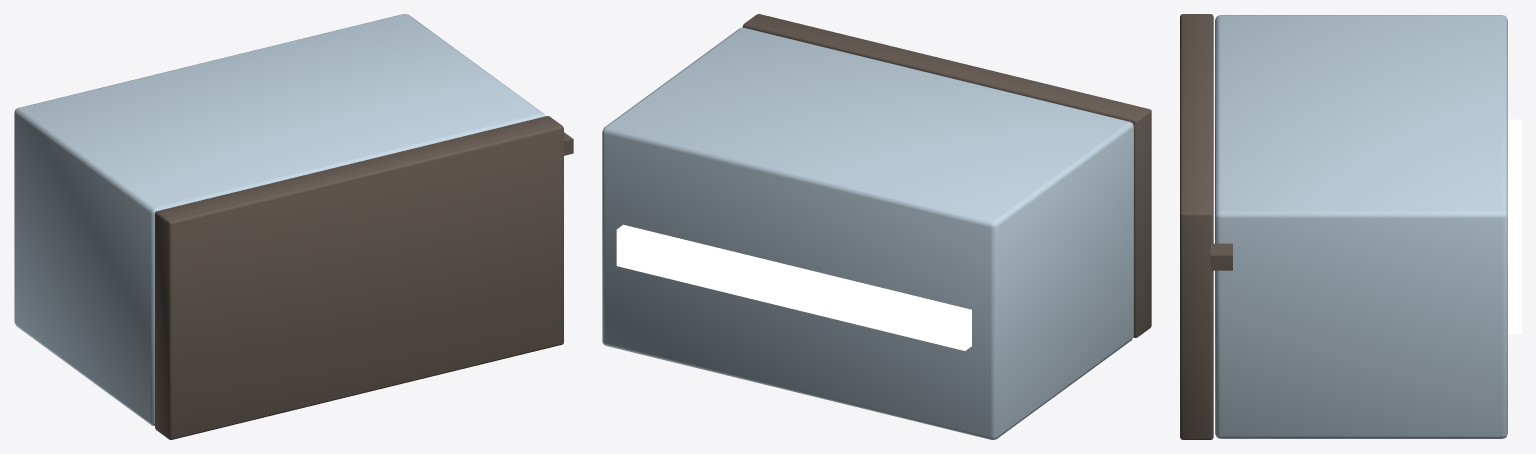
File: tank.glb
The picture shows the model from 3 angles, left to right: view 1: azimuth 30°, elevation 25°; view 2: azimuth 150°, elevation 25°; view 3: azimuth 270°, elevation 25°; orthographic projection. The views are drawn at different scales.
Parts seen in each view (by area): view 1: TankBase, TankGlass; view 2: TankGlass, TankLight, TankBase; view 3: TankGlass, TankBase, TankLight, Plug.
Boxes of the visible parts, bbox=[...] form: TankBase: bbox=[155, 116, 563, 439]; TankGlass: bbox=[14, 14, 545, 425]; TankGlass: bbox=[602, 28, 1133, 439]; TankLight: bbox=[616, 224, 971, 350]; TankBase: bbox=[742, 14, 1151, 337]; TankGlass: bbox=[1215, 15, 1507, 438]; TankBase: bbox=[1180, 14, 1213, 439]; TankLight: bbox=[1508, 119, 1521, 334]; Plug: bbox=[1210, 243, 1232, 270].
Bounding box in the file's own units: 1.8 × 0.9 × 1.23.
